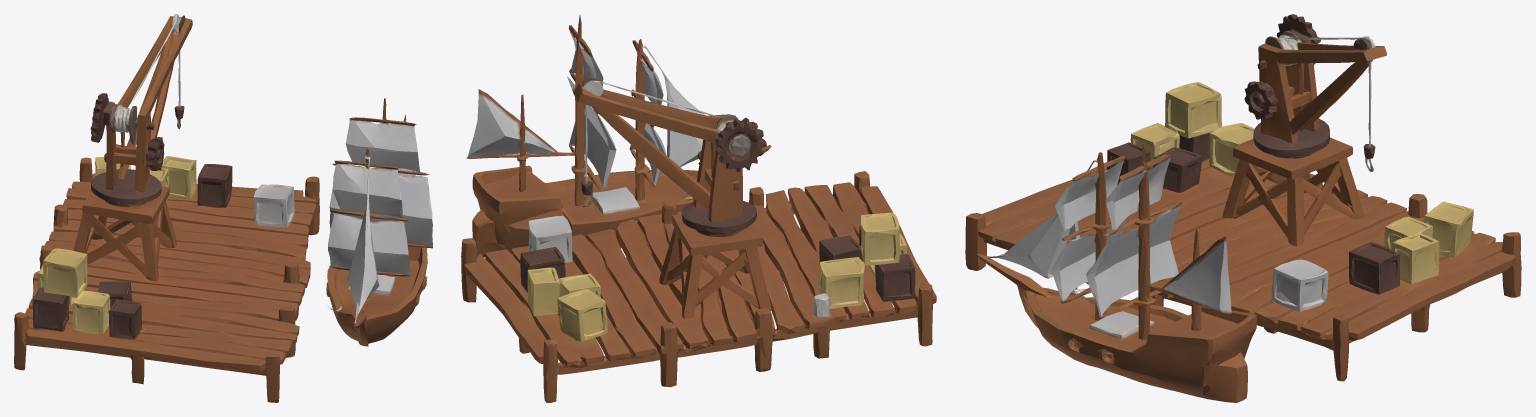
The model's file is dock.fbx.
3 views of the same model, side by side, from view 1: azimuth 30°, elevation 25°; view 2: azimuth 150°, elevation 25°; view 3: azimuth 270°, elevation 25° (orthographic). The views are drawn at different scales.
Visible parts, largest first — view 1: model; view 2: model; view 3: model.
Part boxes in pixels (box(x1,y1,x2,y2)): model: box(14, 14, 432, 402); model: box(461, 14, 936, 402); model: box(965, 14, 1521, 402).
Size of the model in its own units: 185 by 103 by 190.
1 material, 1 textured.
